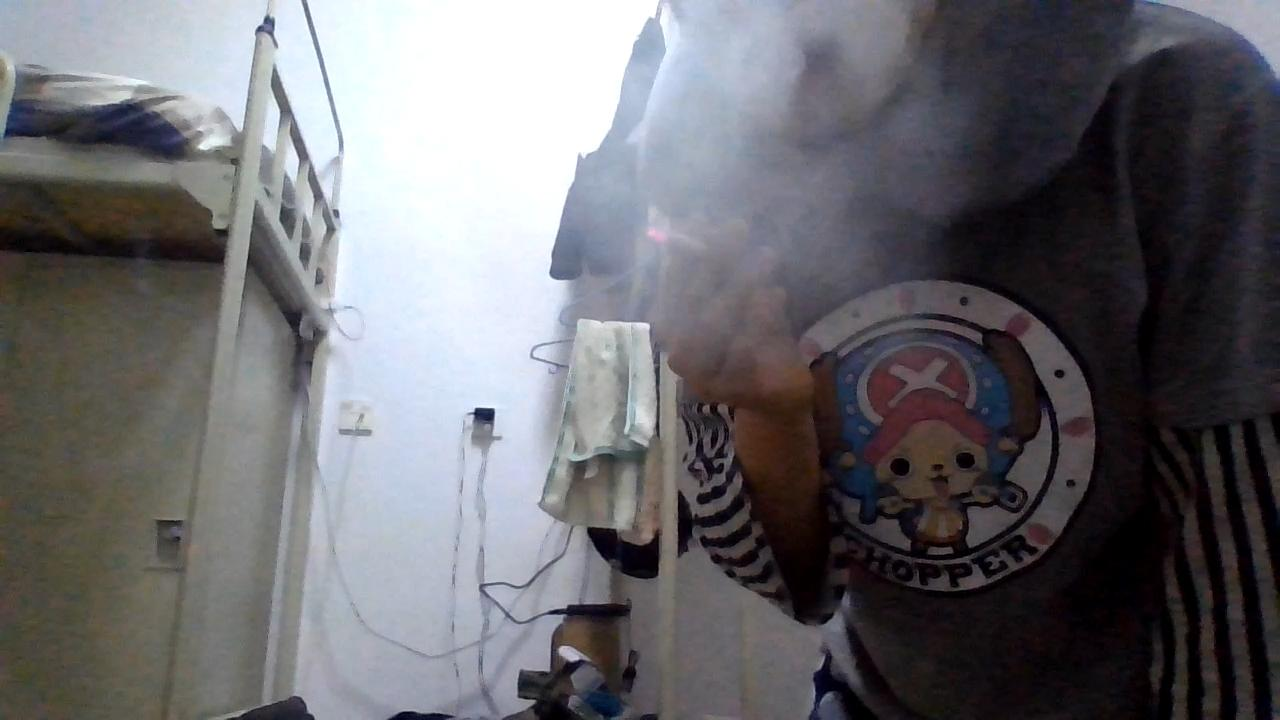yanwu: (628, 5, 925, 210)
